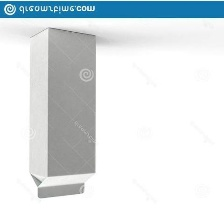carton: (22, 24, 103, 203)
